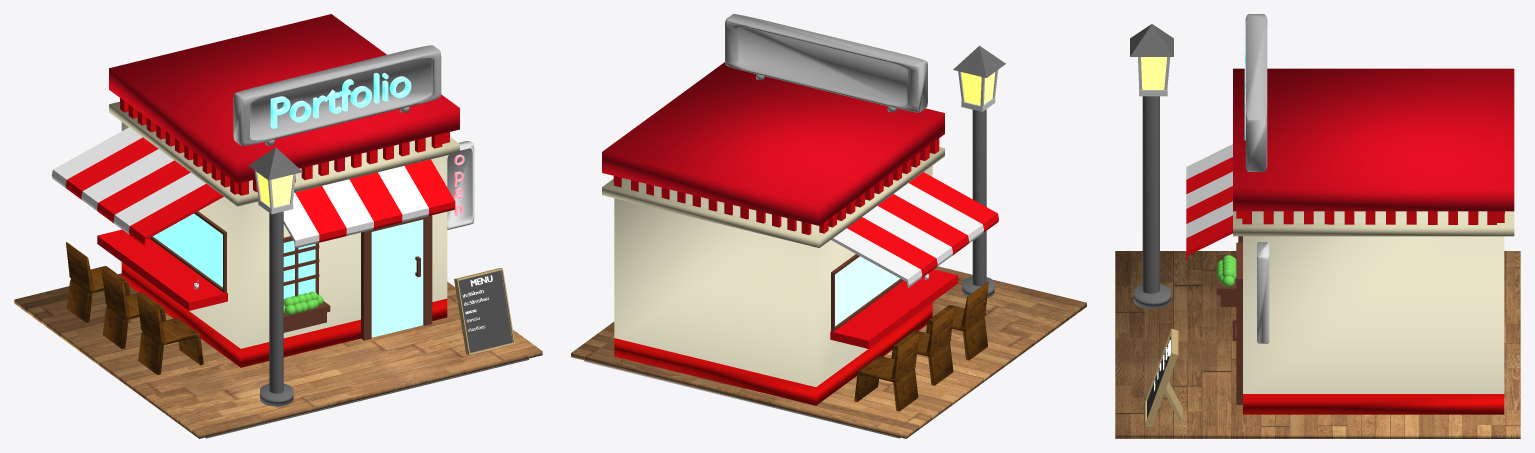
3 renders of one model, left to right at view 1: azimuth 30°, elevation 25°; view 2: azimuth 150°, elevation 25°; view 3: azimuth 270°, elevation 25°, orthographic. The views are drawn at different scales.
Parts seen in each view (by area): view 1: Plane, Plane.004, Plane.001, Cube.071, Cube.001, Cube.065, Plane.007, Cube.006, Plane.005, Plane.010, Cylinder.004, Cube.005 (+14 smaller); view 2: Plane.001, Plane.004, Plane, Cube.001, Cube.071, Plane.005, Cube.006, Cube.004, Plane.011, Cylinder.004, Cube.007, Cube.005 (+4 smaller); view 3: Plane.001, Plane.004, Plane, Cube.065, Plane.005, Cube.001, Cylinder.004, Cube.063, Cube.002, Cube.009, Plane.006, Cube (+2 smaller).
Part boxes in pixels (box(x1,y1,x2,y2)): Plane: box(14, 273, 542, 438); Plane.004: box(109, 14, 459, 183); Plane.001: box(121, 122, 447, 367); Cube.071: box(51, 127, 223, 245); Cube.001: box(233, 45, 441, 145); Cube.065: box(283, 159, 455, 248); Plane.007: box(371, 219, 423, 337); Cube.006: box(97, 229, 227, 310); Plane.005: box(109, 101, 459, 206); Plane.010: box(458, 270, 512, 352); Cylinder.004: box(269, 211, 283, 393); Cube.005: box(137, 294, 203, 374); Plane.001: box(614, 165, 932, 405); Plane.004: box(602, 62, 944, 225); Plane: box(571, 266, 1086, 438); Cube.001: box(725, 14, 927, 112); Cube.071: box(831, 172, 998, 287); Plane.005: box(602, 147, 944, 247); Cube.006: box(830, 269, 958, 348); Cube.004: box(854, 332, 919, 411); Plane.011: box(835, 256, 899, 325); Cylinder.004: box(972, 109, 986, 285); Cube.007: box(891, 307, 954, 385); Cube.005: box(926, 281, 988, 360); Plane.001: box(1243, 211, 1504, 414); Plane.004: box(1233, 68, 1514, 211); Plane: box(1115, 251, 1520, 438); Cube.065: box(1186, 144, 1232, 261); Plane.005: box(1233, 211, 1514, 236); Cube.001: box(1245, 14, 1267, 171); Cylinder.004: box(1142, 96, 1159, 293); Cube.063: box(1257, 242, 1269, 343); Cube.002: box(1130, 24, 1173, 56); Cube.009: box(1236, 242, 1242, 404); Plane.006: box(1144, 328, 1178, 426); Cube: box(1141, 57, 1166, 89).
Size of the model in its own units: 4.32 by 3.31 by 4.03.
Materials: 39 (4 with a texture image).
